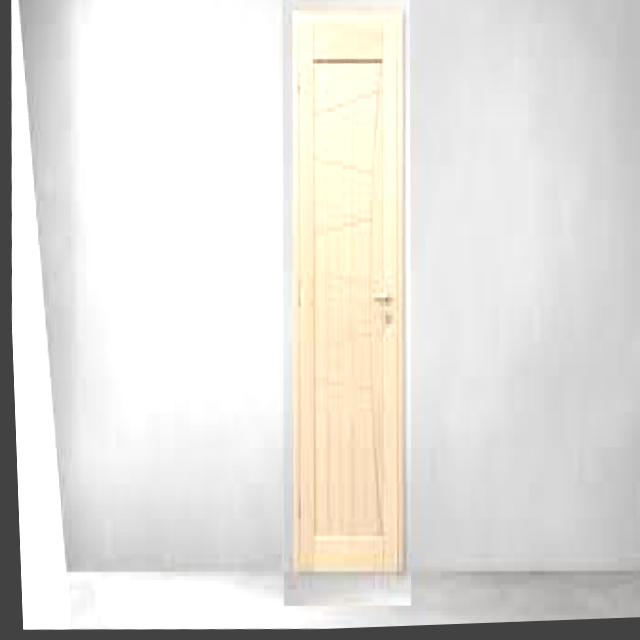close: (261, 0, 429, 613)
